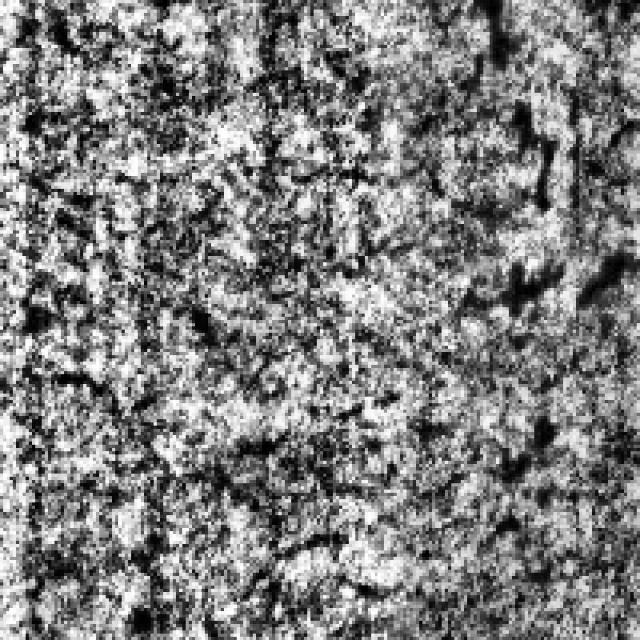Pitted_Surface: (58, 358, 426, 592), (384, 39, 554, 218)
